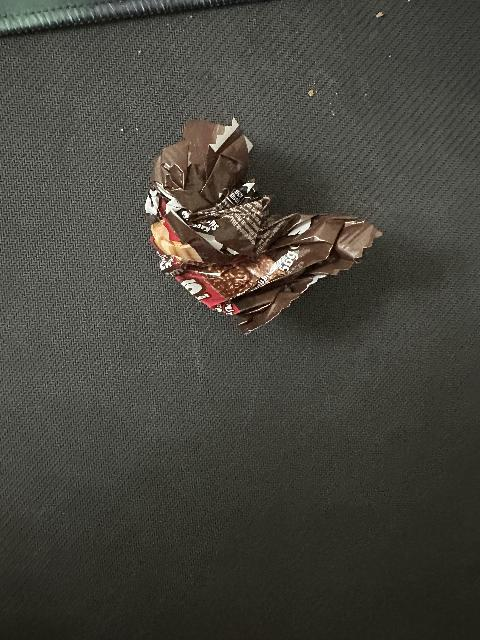Plastik: (140, 117, 387, 332)
